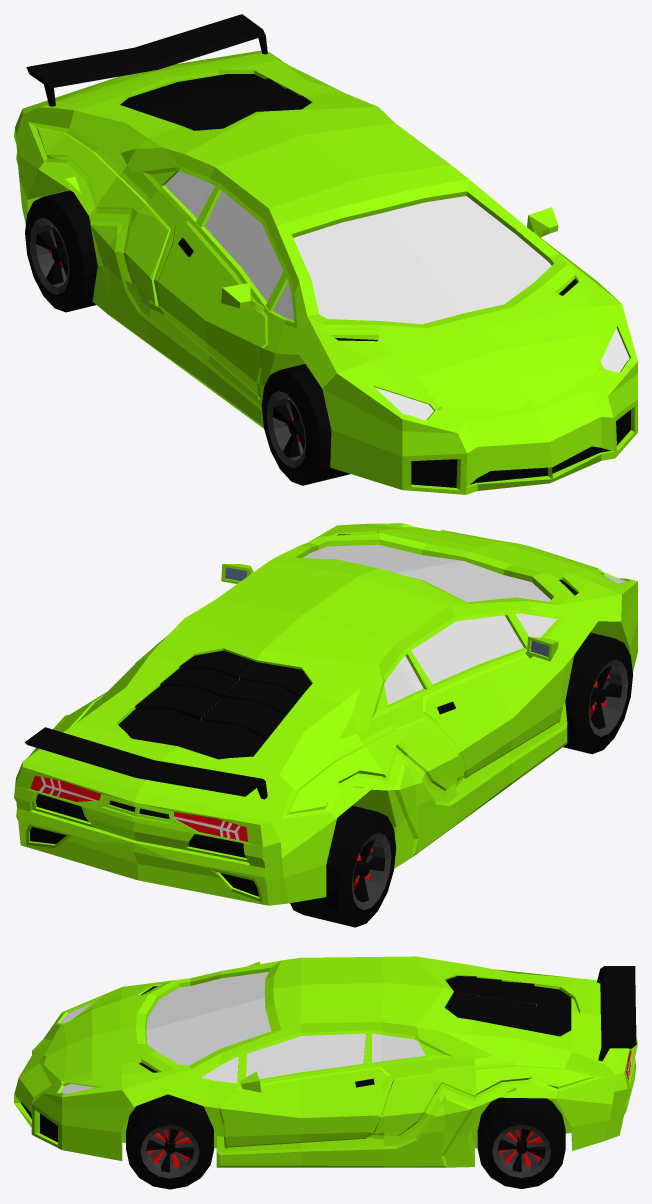
The model's file is SportsCar.fbx.
3 views of the same model, one above another, from view 1: azimuth 30°, elevation 25°; view 2: azimuth 150°, elevation 25°; view 3: azimuth 270°, elevation 25° (orthographic). The views are drawn at different scales.
Parts seen in each view (by area): view 1: SportsCar, Wheel.Rear.Right, Wheel.Front.Right, HeadLight; view 2: SportsCar, Wheel.Rear.Right, Wheel.Front.Right, TailLight; view 3: SportsCar, Wheel.Rear.Left, Wheel.Front.Left, HeadLight.
Part boxes in pixels (x1=…): SportsCar: x1=14, y1=14, x2=637, y2=494; Wheel.Rear.Right: x1=25, y1=190, x2=97, y2=312; Wheel.Front.Right: x1=261, y1=364, x2=350, y2=485; HeadLight: x1=375, y1=328, x2=629, y2=420; SportsCar: x1=14, y1=523, x2=637, y2=905; Wheel.Rear.Right: x1=290, y1=805, x2=396, y2=927; Wheel.Front.Right: x1=563, y1=632, x2=632, y2=754; TailLight: x1=30, y1=775, x2=247, y2=841; SportsCar: x1=14, y1=956, x2=637, y2=1167; Wheel.Rear.Left: x1=477, y1=1097, x2=565, y2=1188; Wheel.Front.Left: x1=126, y1=1094, x2=213, y2=1189; HeadLight: x1=60, y1=1003, x2=95, y2=1094.
Bounding box in the file's own units: 672 × 396 × 1484.
